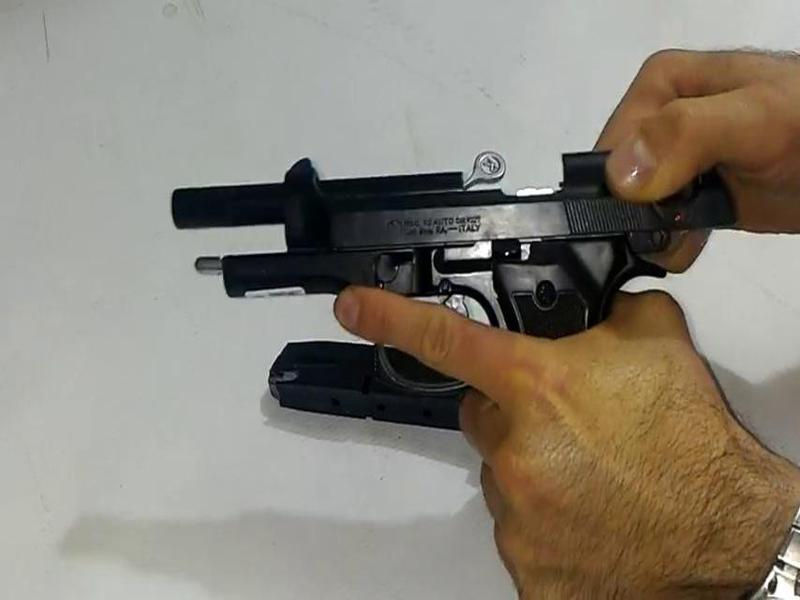Pistola: (127, 124, 718, 485)
